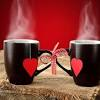cup: (3, 38, 55, 86)
